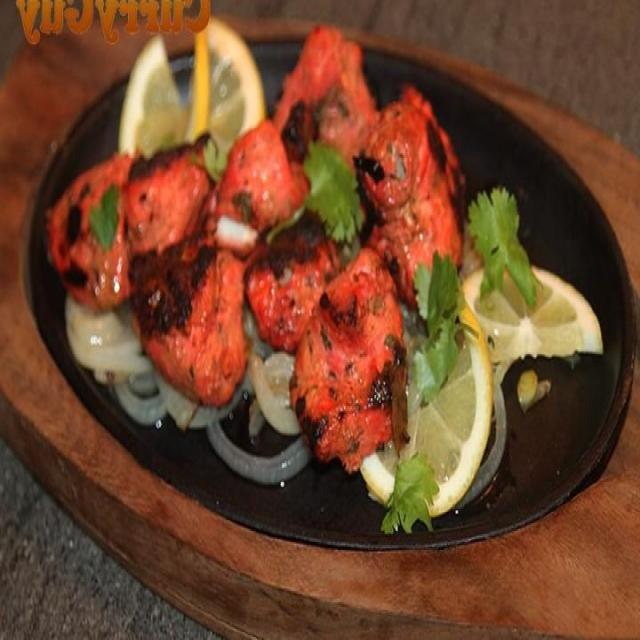Chicken Tikka: (47, 21, 466, 458)
